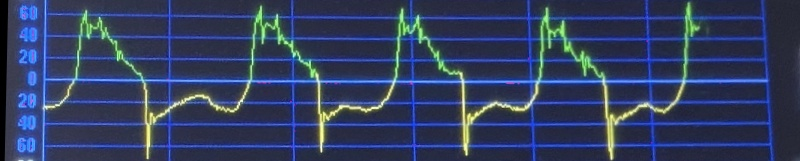hydrop_flow: (47, 0, 690, 157)
